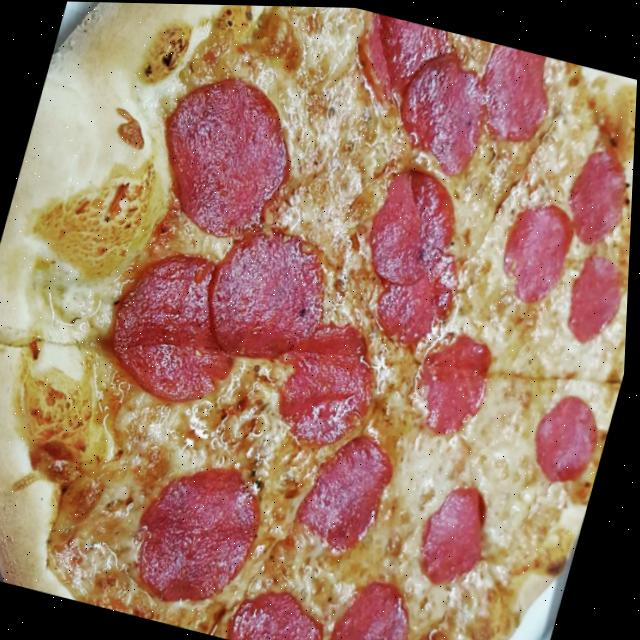pepperoni: (137, 61, 317, 252), (94, 237, 266, 418), (125, 450, 277, 619), (193, 214, 345, 375), (265, 312, 392, 459), (381, 37, 504, 181), (291, 420, 409, 559), (361, 162, 472, 294), (365, 237, 476, 357), (402, 320, 503, 441), (342, 9, 455, 115), (412, 473, 505, 594), (491, 193, 584, 310), (467, 40, 563, 146), (523, 382, 614, 490), (524, 381, 612, 488), (558, 140, 635, 248), (558, 243, 632, 349), (326, 563, 427, 640), (230, 577, 342, 640)
pizza: (0, 0, 640, 640)
